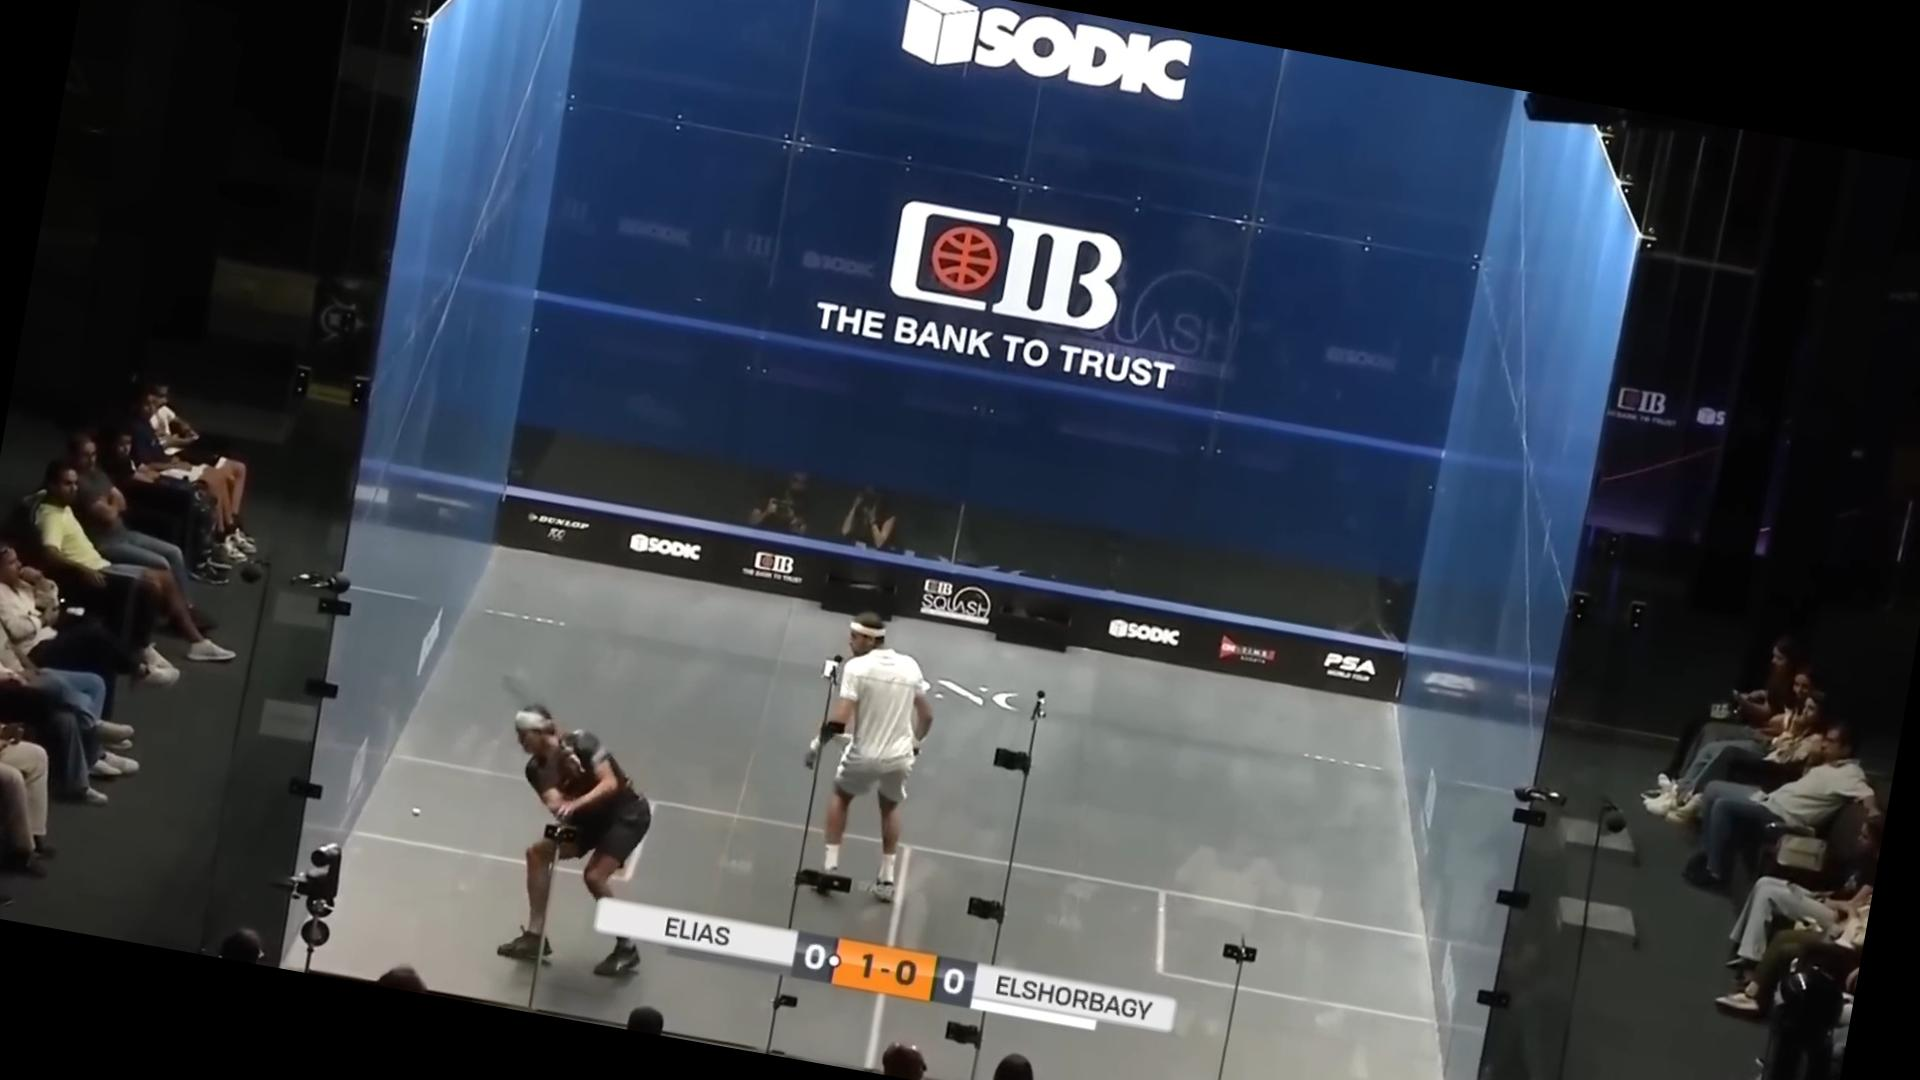Squash-Ball: (396, 790, 438, 836)
